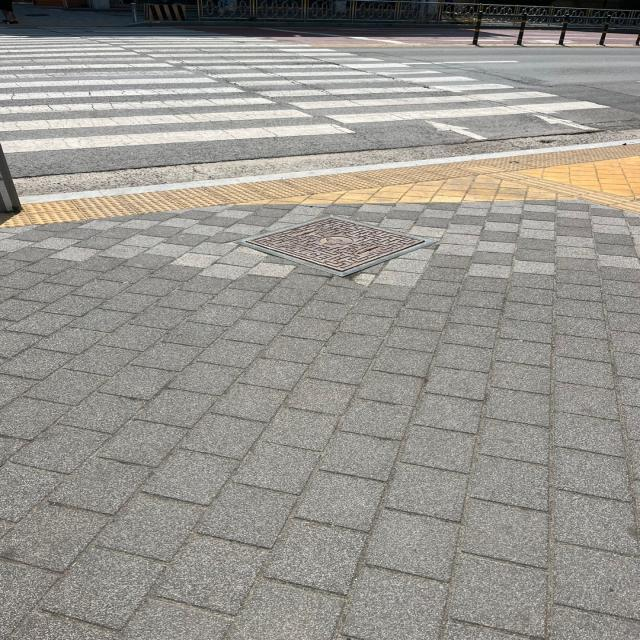manhole: (241, 218, 434, 276)
